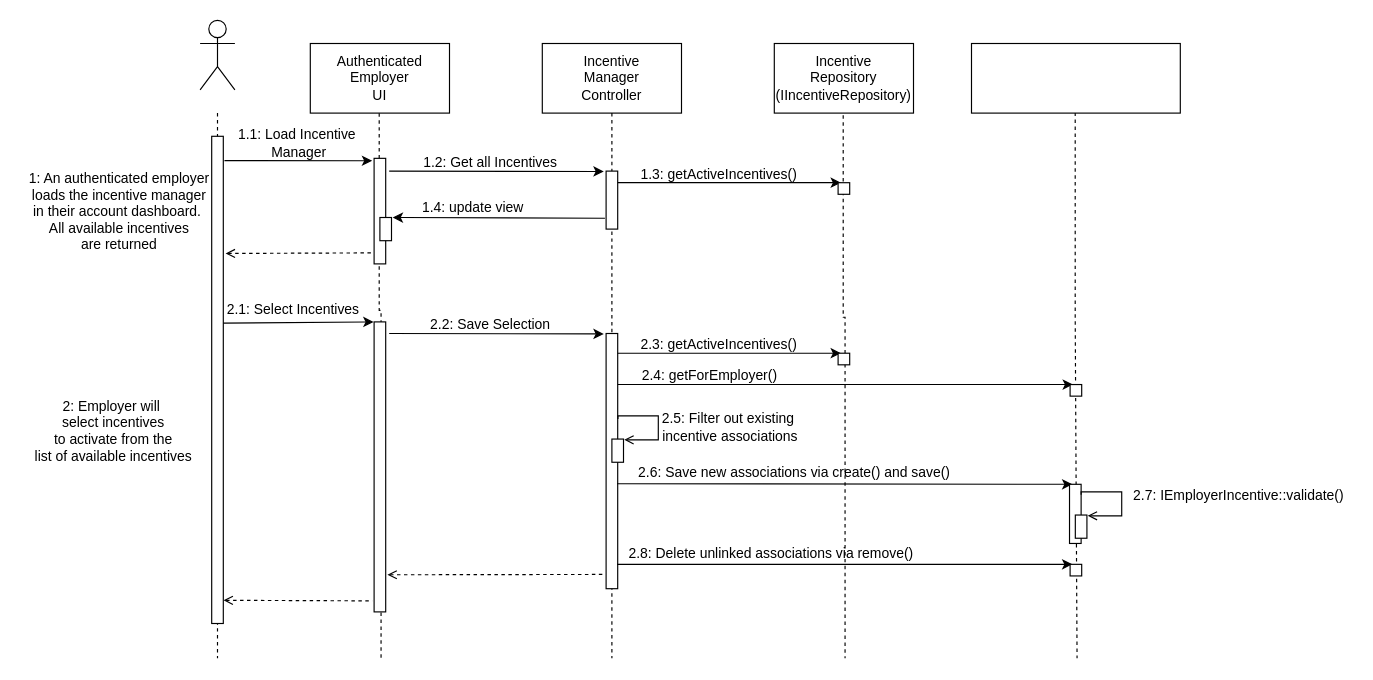
Image size: 1373x680. Some labels were removed from this diagram. Here are the shapes that lost their labels. From the top down, the centre of each, then its label:
the point at 217,54: Employer
the point at 1075,77: Employer Incentive Repository (IEmployerIncentiveRepository)
